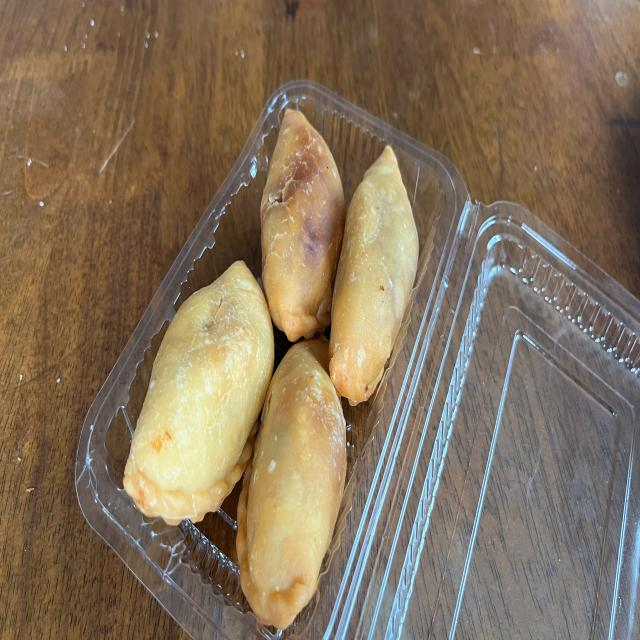karipap: (124, 260, 274, 524), (236, 336, 346, 629), (329, 147, 419, 407), (260, 109, 346, 342)
